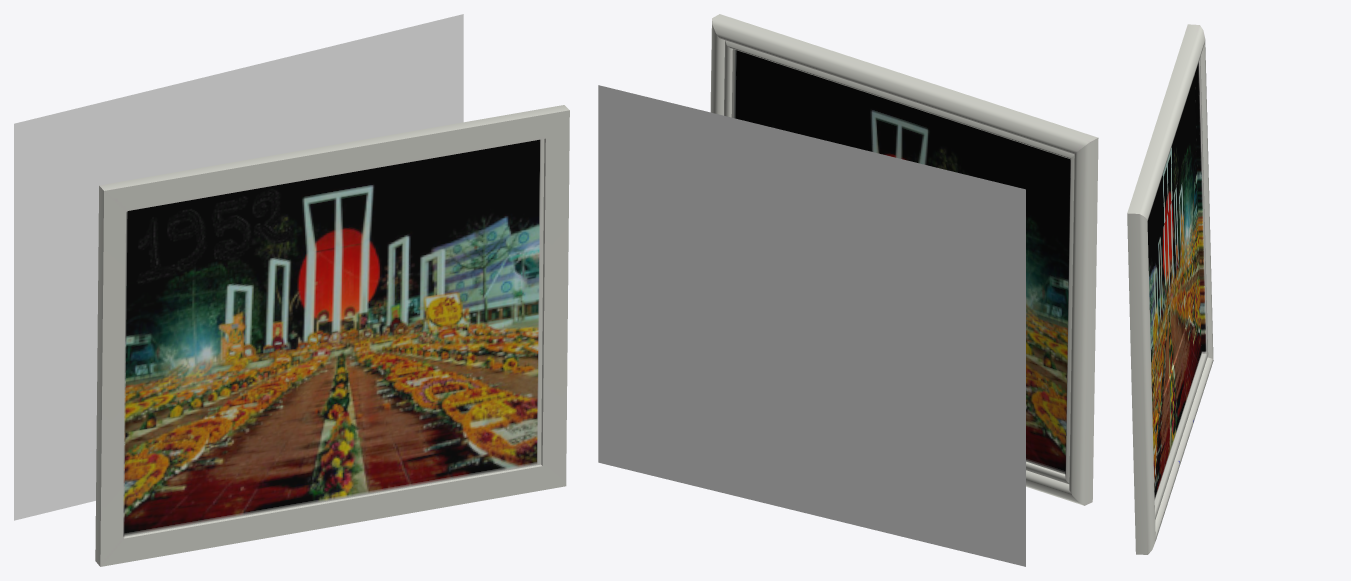
File: Frame_Final.fbx
3 renders of one model, left to right at view 1: azimuth 30°, elevation 25°; view 2: azimuth 150°, elevation 25°; view 3: azimuth 270°, elevation 25°, orthographic. The views are drawn at different scales.
Visible parts, largest first — view 1: node_id12, node_id16, node_id14; view 2: node_id16, node_id12, node_id14; view 3: node_id14, node_id12, node_id10.
Part boxes in pixels (box(x1,y1,x2,y2)): node_id12: box(124, 139, 544, 536); node_id16: box(14, 14, 463, 520); node_id14: box(95, 105, 569, 566); node_id16: box(598, 85, 1025, 566); node_id12: box(731, 49, 1070, 473); node_id14: box(710, 14, 1098, 505); node_id14: box(1127, 24, 1213, 554); node_id12: box(1147, 74, 1201, 500); node_id10: box(1151, 160, 1188, 418).
Size of the model in its own units: 0.512 by 0.432 by 0.2304.
Materials: 4 (4 with a texture image).
